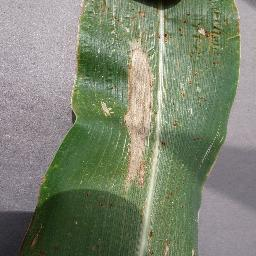Corn_Blight: (117, 6, 163, 195), (164, 1, 243, 73), (71, 0, 117, 78), (166, 78, 193, 159), (19, 182, 44, 256), (147, 215, 174, 255), (89, 93, 113, 129), (81, 190, 119, 209), (71, 243, 112, 254), (165, 188, 178, 210), (191, 128, 205, 148), (70, 216, 81, 228), (55, 248, 65, 256)
